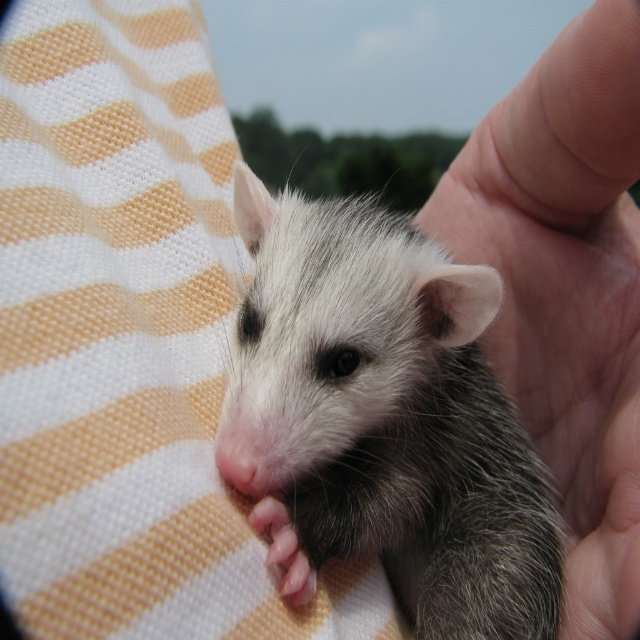Hamster: (210, 141, 575, 640)
